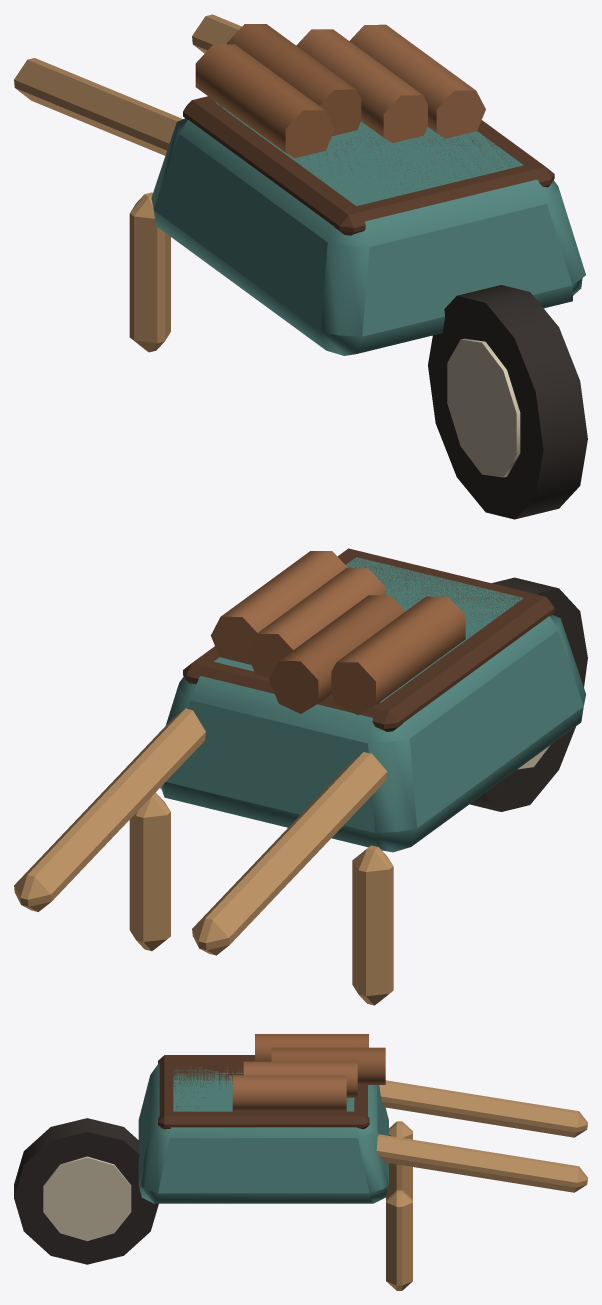
The model's file is wheelbarrow.glb.
3 views of the same model, one above another, from view 1: azimuth 30°, elevation 25°; view 2: azimuth 150°, elevation 25°; view 3: azimuth 270°, elevation 25° (orthographic). The views are drawn at different scales.
Parts seen in each view (by area): view 1: body; view 2: body; view 3: body.
Part boxes in pixels (x1,y1,x2,y2): body: [14, 14, 587, 519]; body: [14, 548, 587, 1005]; body: [14, 1034, 587, 1290].
Size of the model in its own units: 0.7102 by 0.8182 by 2.11.
